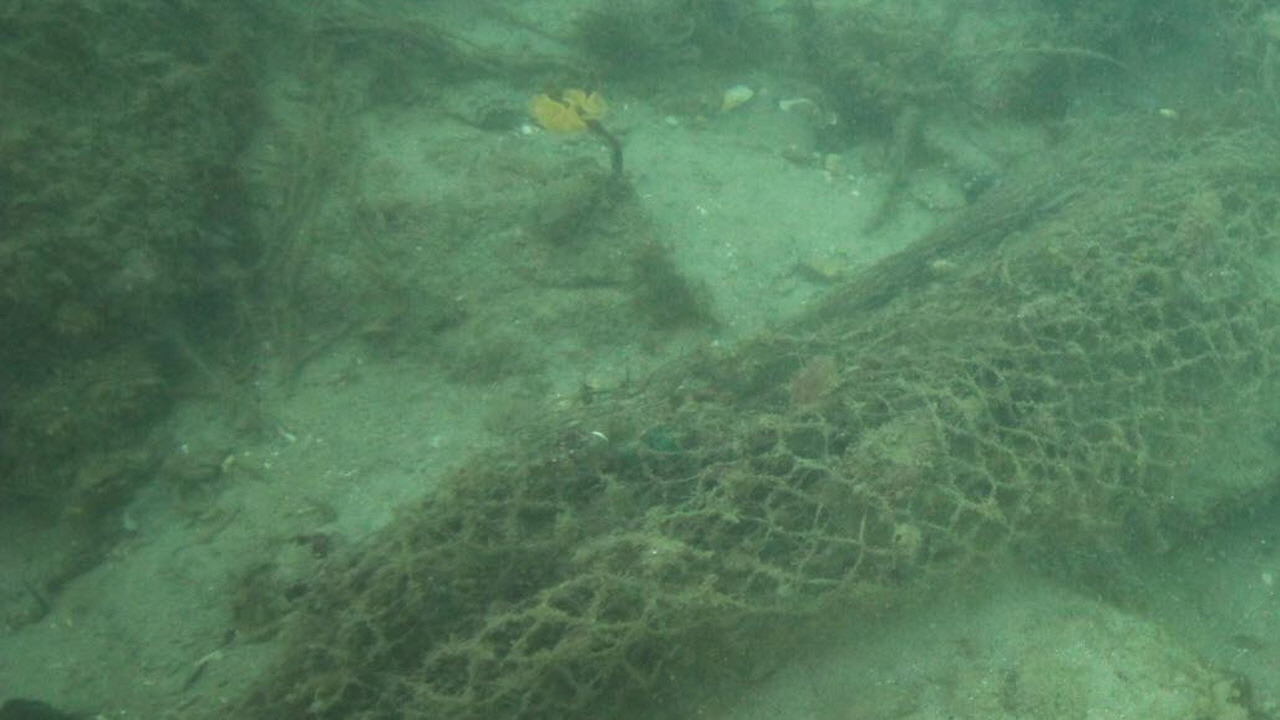fish net: (296, 151, 1280, 720)
